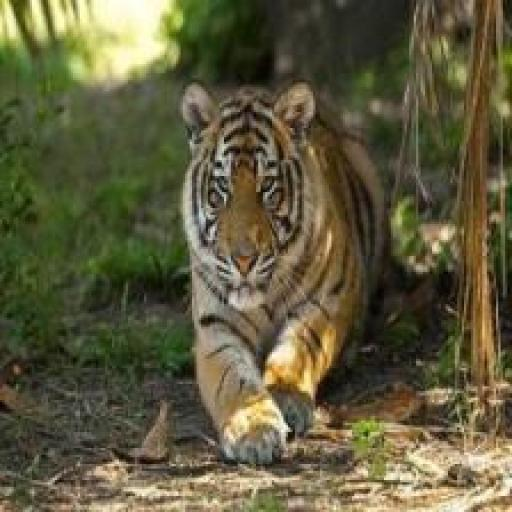Tiger: (182, 78, 394, 470)
